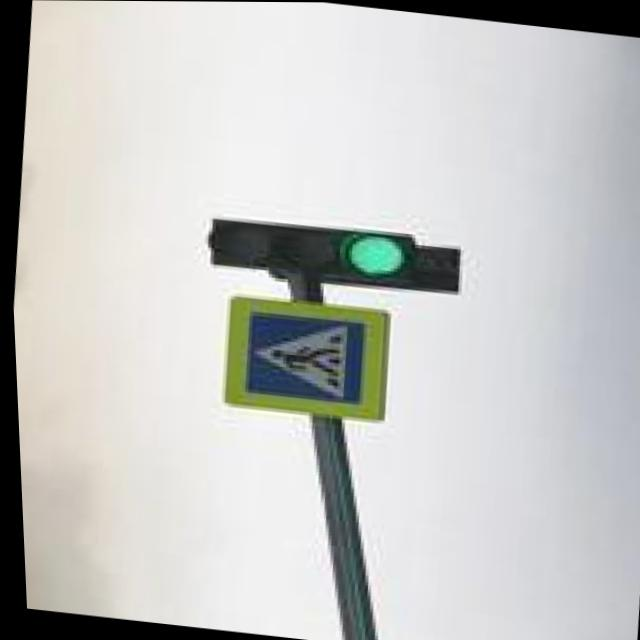green_light: (316, 194, 412, 282)
